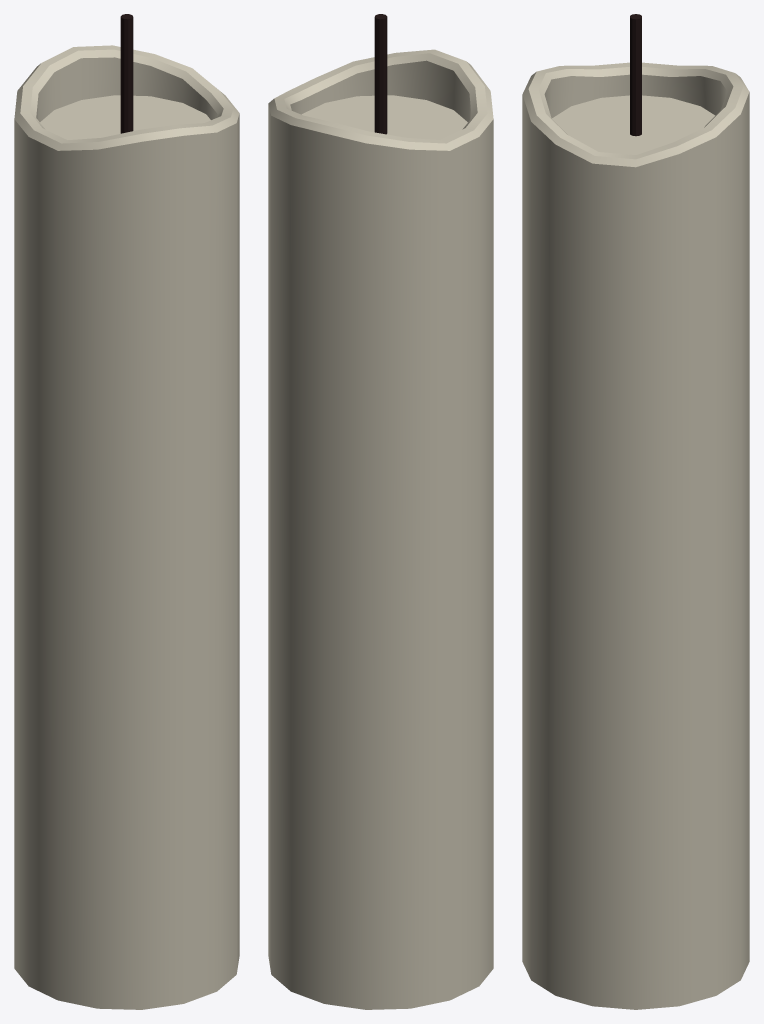
File: Candle.fbx
3 renders of one model, left to right at view 1: azimuth 30°, elevation 25°; view 2: azimuth 150°, elevation 25°; view 3: azimuth 270°, elevation 25°, orthographic.
Parts seen in each view (by area): view 1: Candle; view 2: Candle; view 3: Candle.
Part boxes in pixels (bbox=[...]): Candle: bbox=[14, 14, 239, 1009]; Candle: bbox=[268, 14, 493, 1009]; Candle: bbox=[522, 14, 749, 1009].
Size of the model in its own units: 0.4763 by 2.19 by 0.4763.
